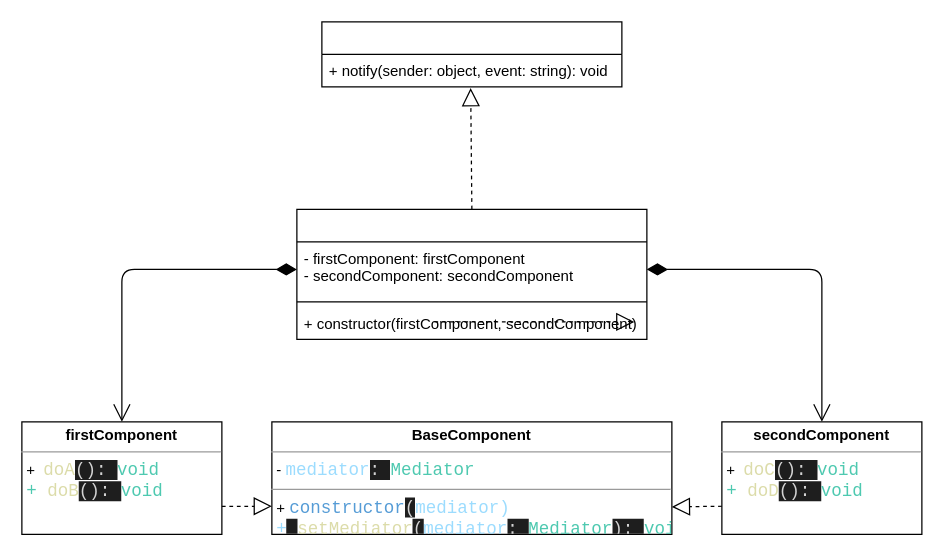
The diagram is 944 pixels wide and 559 high, and some of its shapes have lost their labels. Here are the shapes that lost their labels. From the top down, the box of each, then its label:
(321, 21, 622, 87): Mediator
(296, 208, 647, 339): ConcreteMediator
